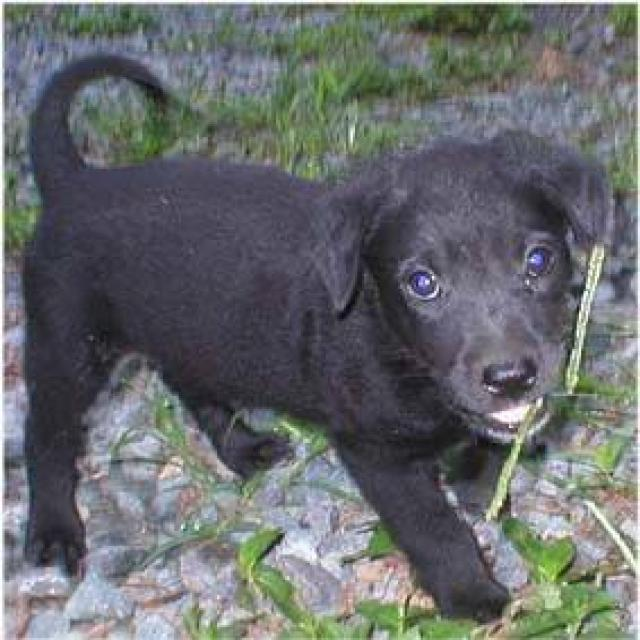dog: (18, 49, 620, 623)
